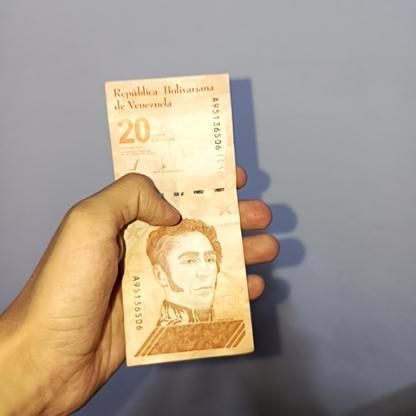twenty-front-vef: (103, 73, 254, 367)
